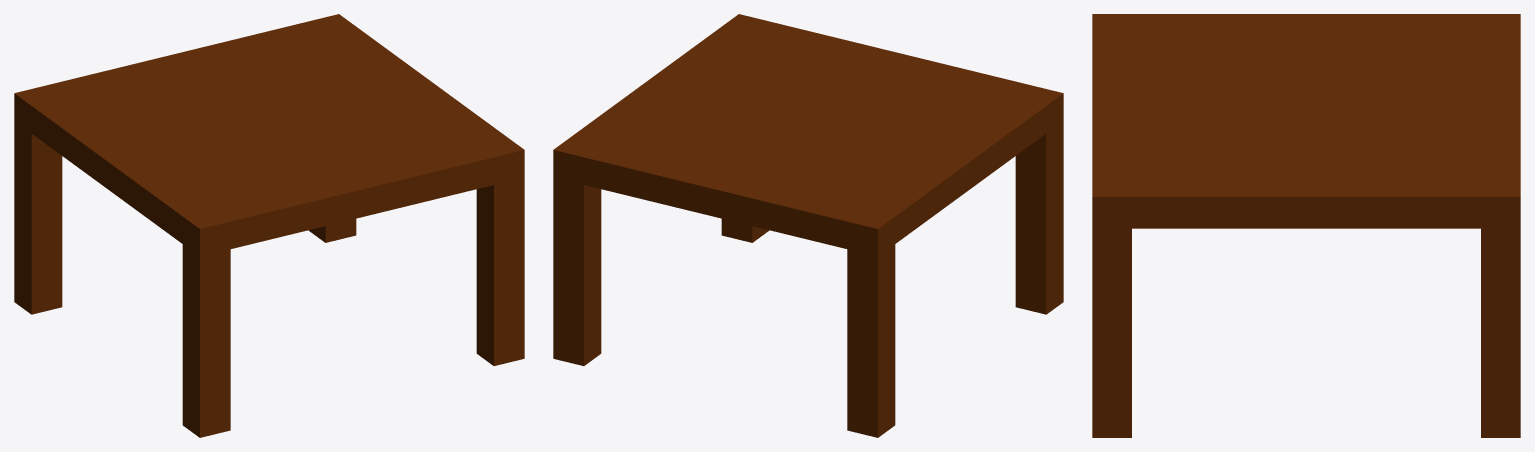
Rendered from table.fbx.
3 views of the same model, side by side, from view 1: azimuth 30°, elevation 25°; view 2: azimuth 150°, elevation 25°; view 3: azimuth 270°, elevation 25° (orthographic). The views are drawn at different scales.
Parts seen in each view (by area): view 1: tukue; view 2: tukue; view 3: tukue.
Part boxes in pixels (box(x1,y1,x2,y2)): tukue: box(14, 14, 524, 437); tukue: box(553, 14, 1063, 437); tukue: box(1092, 14, 1520, 437).
Size of the model in its own units: 82.17 by 50.49 by 81.37.
